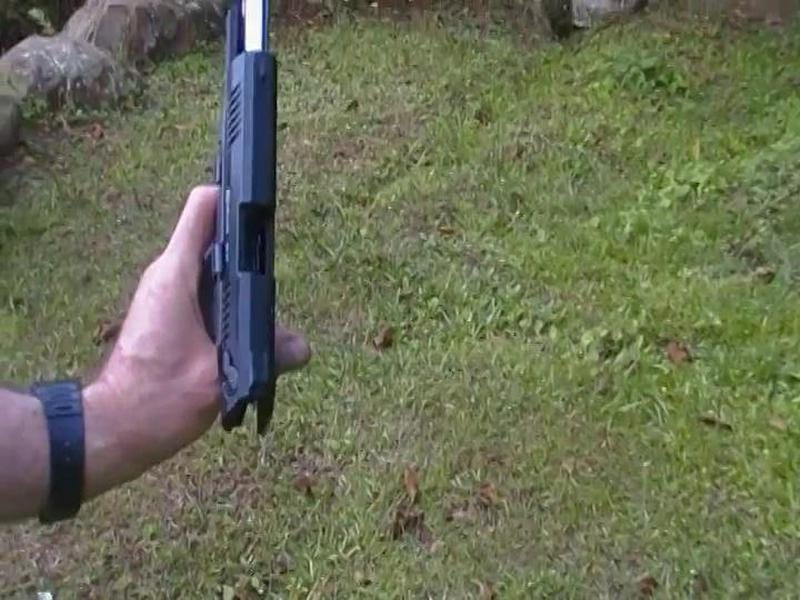Pistola: (141, 31, 344, 431)
